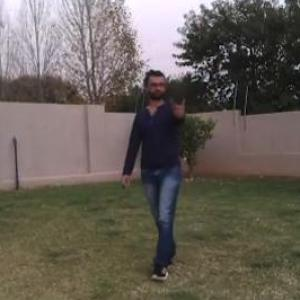takeoff-hand: (171, 88, 193, 124)
